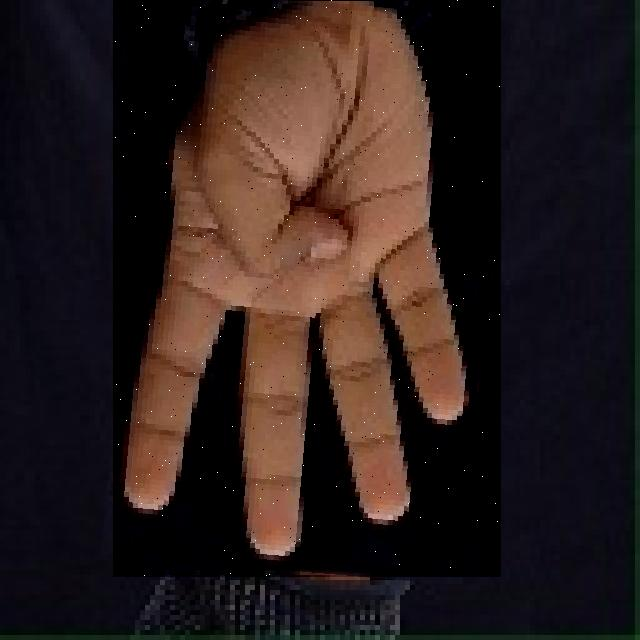Thanks: (113, 0, 501, 577)
